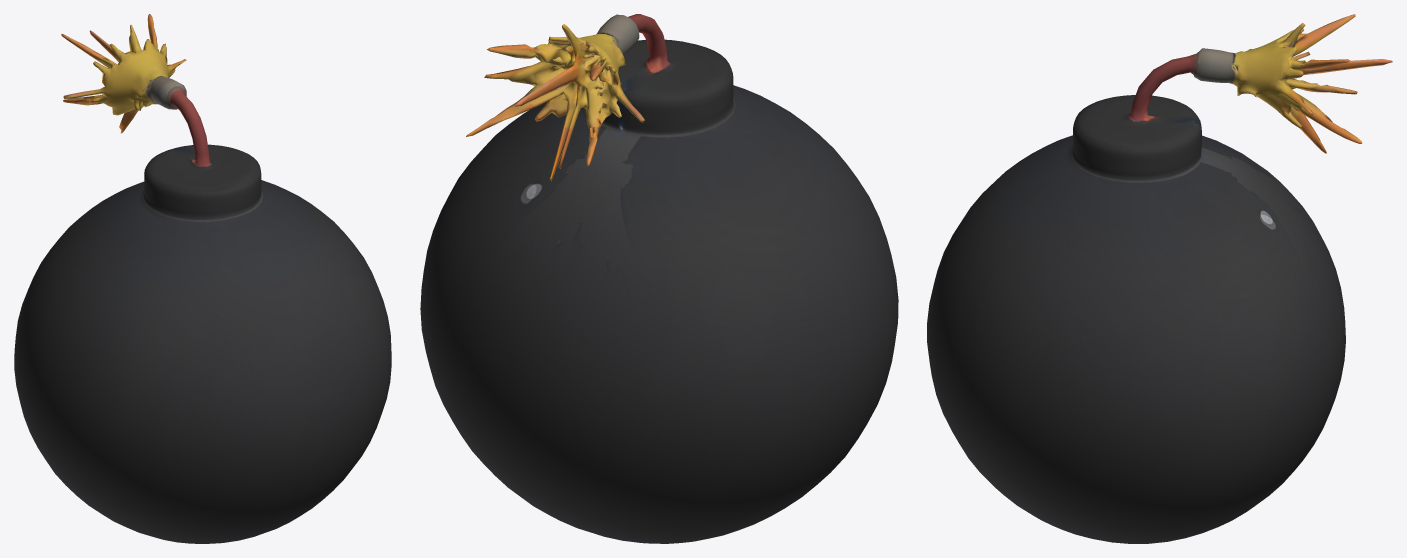
File: tripo_convert_72f57155-323e-4f5f-ab97-efbb2eb3badd.fbx
The picture shows the model from 3 angles, left to right: view 1: azimuth 30°, elevation 25°; view 2: azimuth 150°, elevation 25°; view 3: azimuth 270°, elevation 25°; orthographic projection. The views are drawn at different scales.
Visible parts, largest first — view 1: tripo_node_72f57155; view 2: tripo_node_72f57155; view 3: tripo_node_72f57155.
Part boxes in pixels (<box>): tripo_node_72f57155: <box>14,14,391,543</box>; tripo_node_72f57155: <box>420,14,898,543</box>; tripo_node_72f57155: <box>927,14,1392,543</box>.
Bounding box in the file's own units: 76.64 × 99.48 × 83.47.
Materials: 1 (1 with a texture image).
